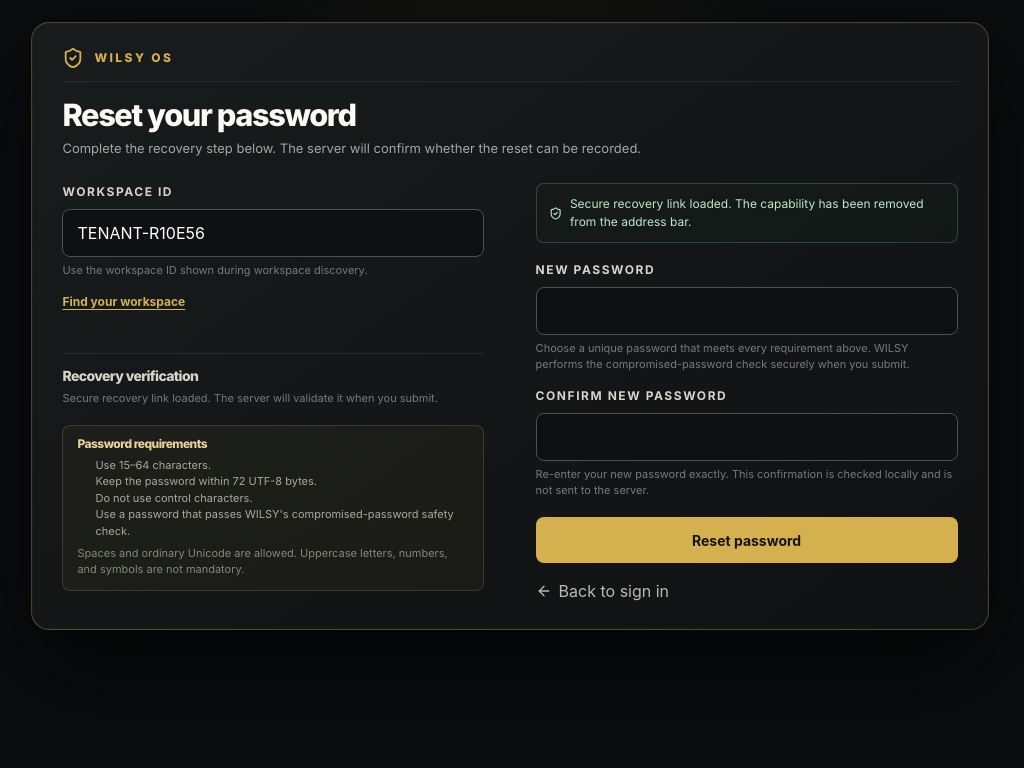
R10E56 password recovery client flow certificate › scrubs reset capability, hides manual recovery input, and submits the exact link capability
In the password field labelled "New password": (747, 312) [536,288,958,336], type "synthetic strong password 12345"
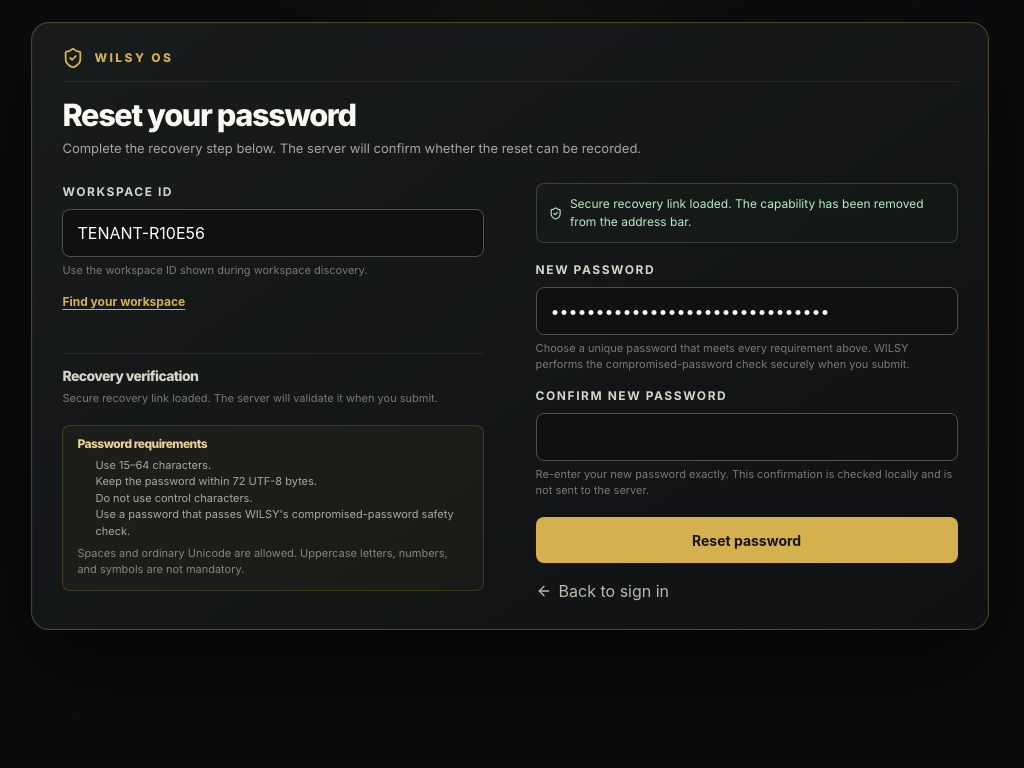
In the password field labelled "Confirm new password": (747, 437) [536,413,958,461], type "synthetic strong password 12345"
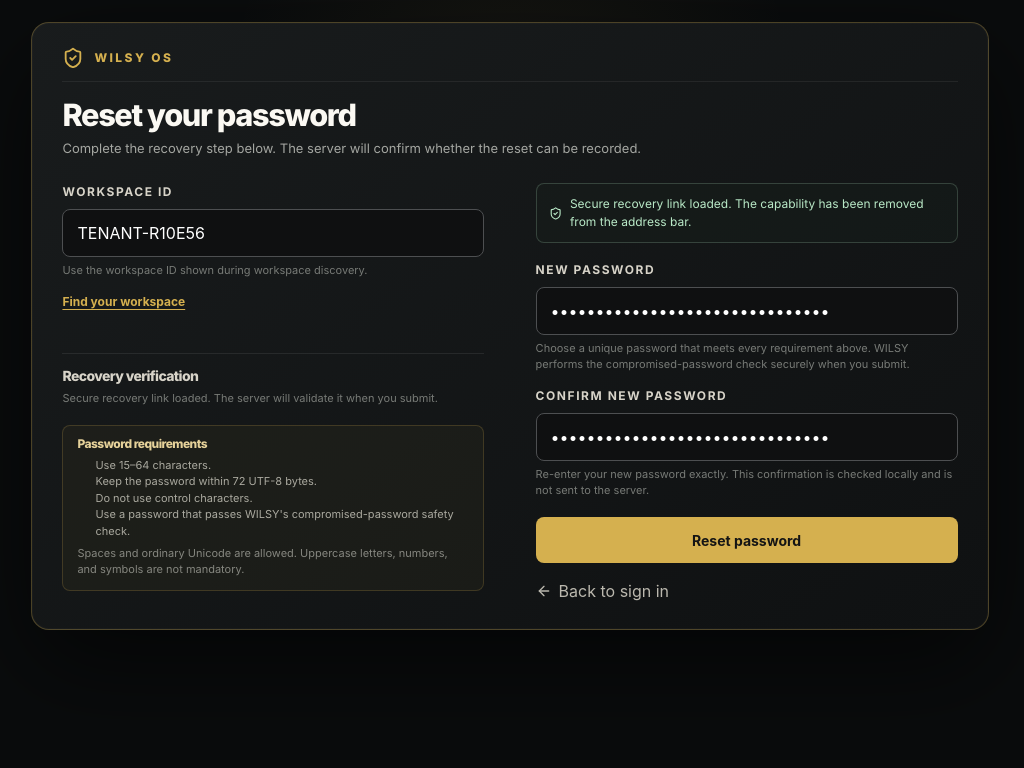
Click the button "Reset password": click(747, 540) [536,517,958,563]
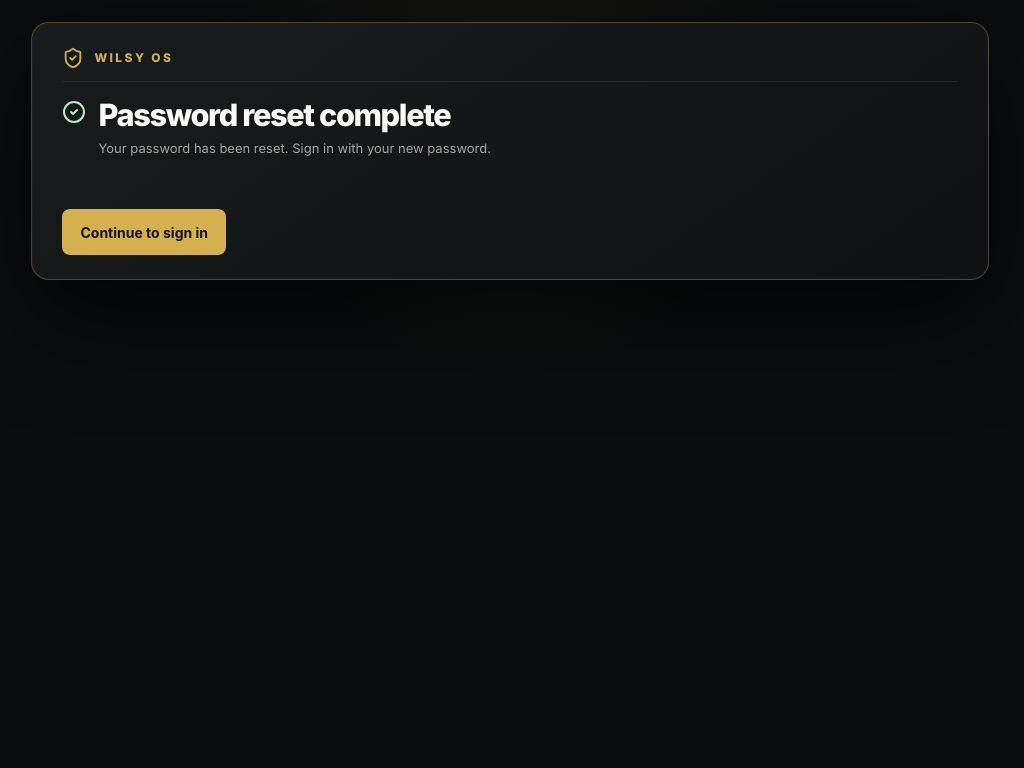
Expected: the element with test id "password-reset-success" shows "Password reset complete", [98,97,450,134]
